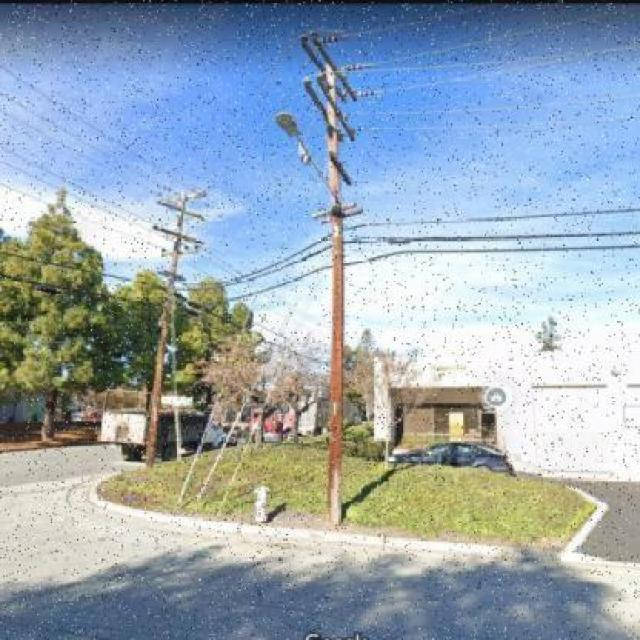pole: (242, 3, 438, 540)
